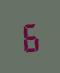six: (19, 20, 39, 52)
